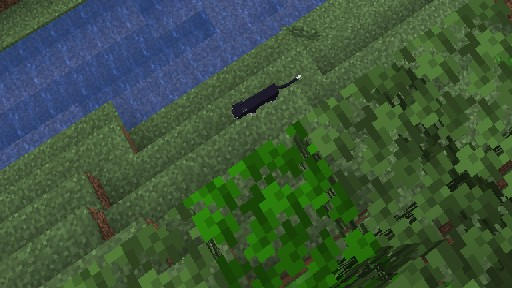cat: (230, 73, 301, 120)
